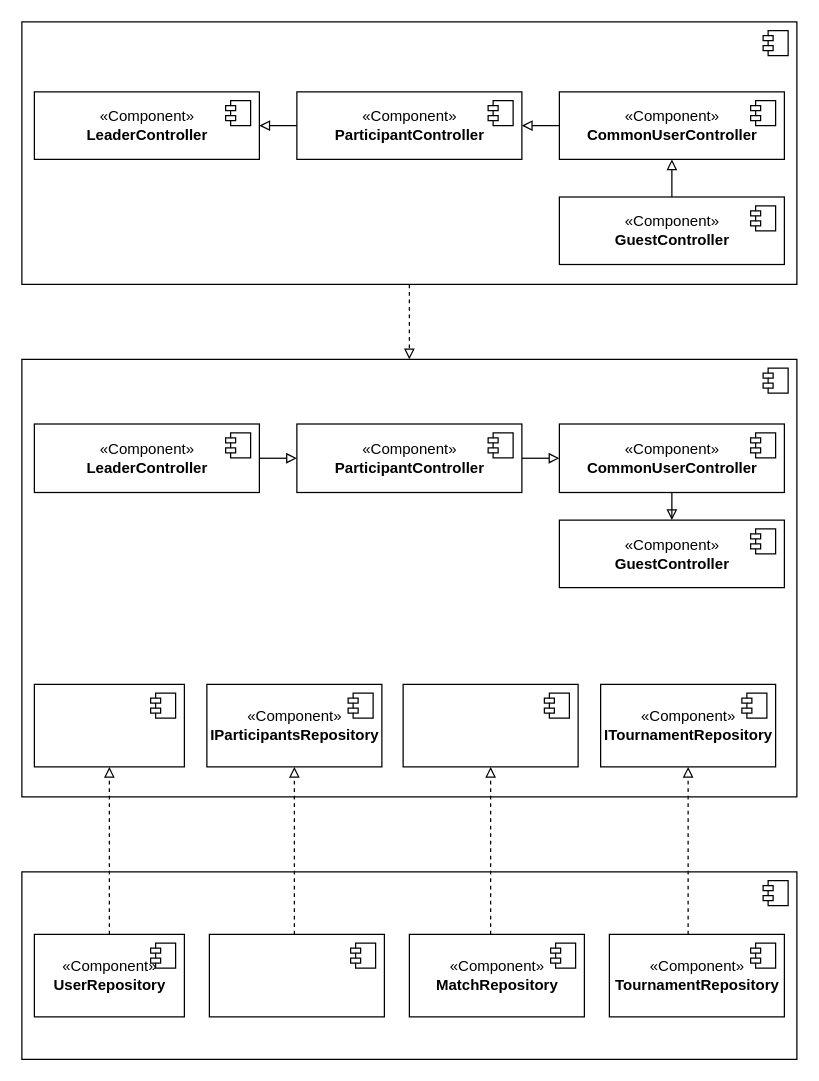
Image size: 819x1081. Some labels were removed from this diagram. Each missing label, with the box of its shape:
«Annotation» Component: (21, 21, 797, 284)
«Component» BL: (21, 358, 797, 797)
«Component» DAL: (21, 871, 797, 1059)
«Component» IMatchRepository: (402, 683, 578, 767)
«Component» IUserRepository: (33, 683, 184, 767)
«Component» ParticipantsRepository: (208, 933, 384, 1017)
